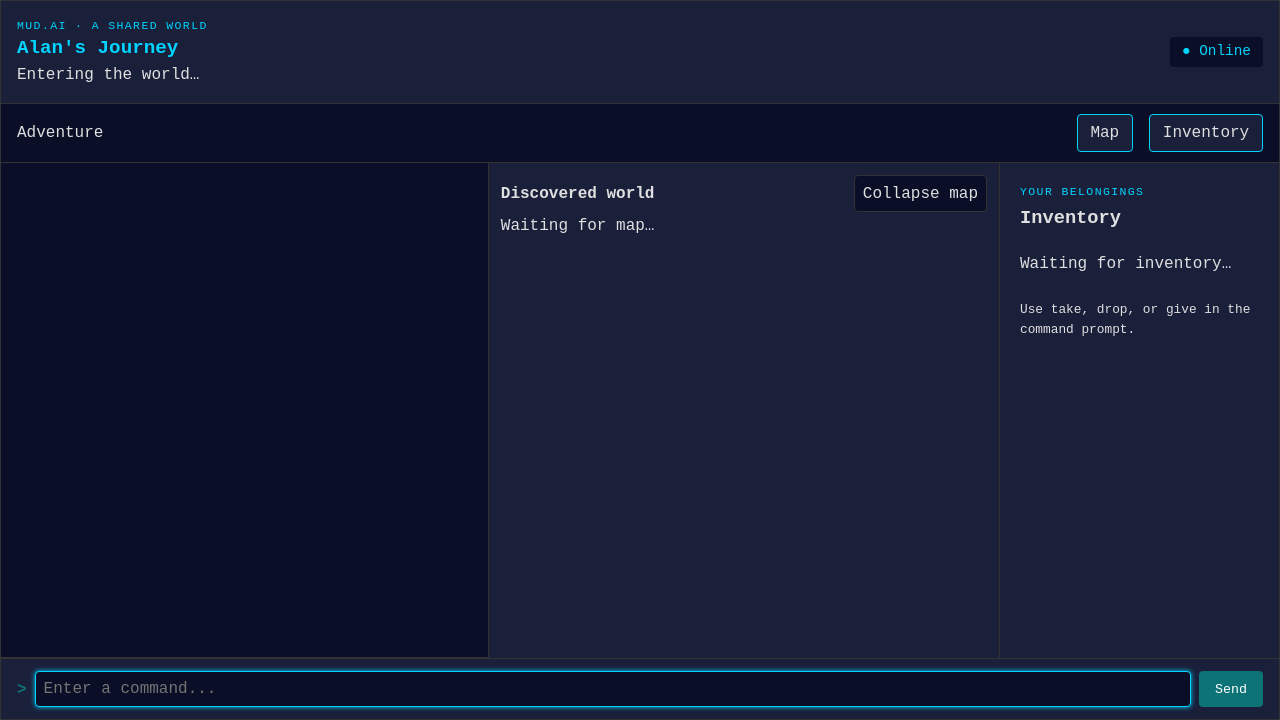
Scenario: Terminal › applies theme slash commands locally without sending them to the server
Type "/theme light" into the field with test id "command-input" at (613, 689), box [35,671,1191,707]
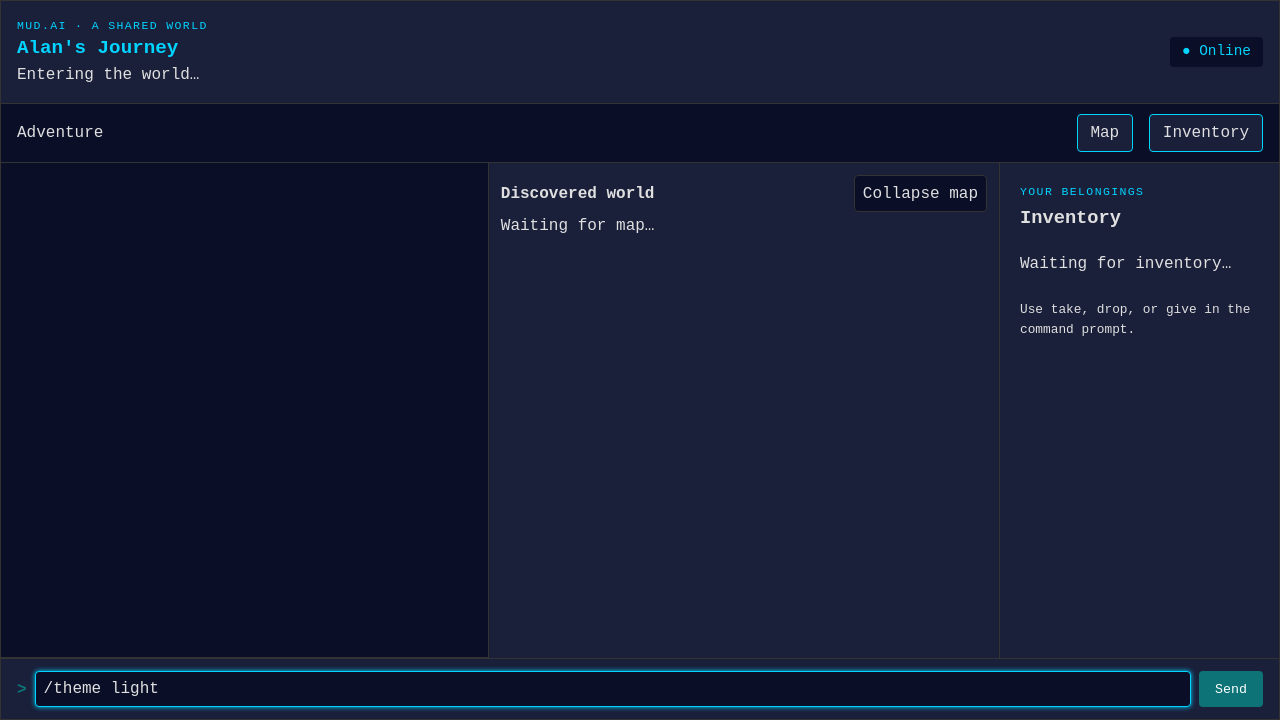
Submit the form with test id "command-input", box [1,658,1279,719]
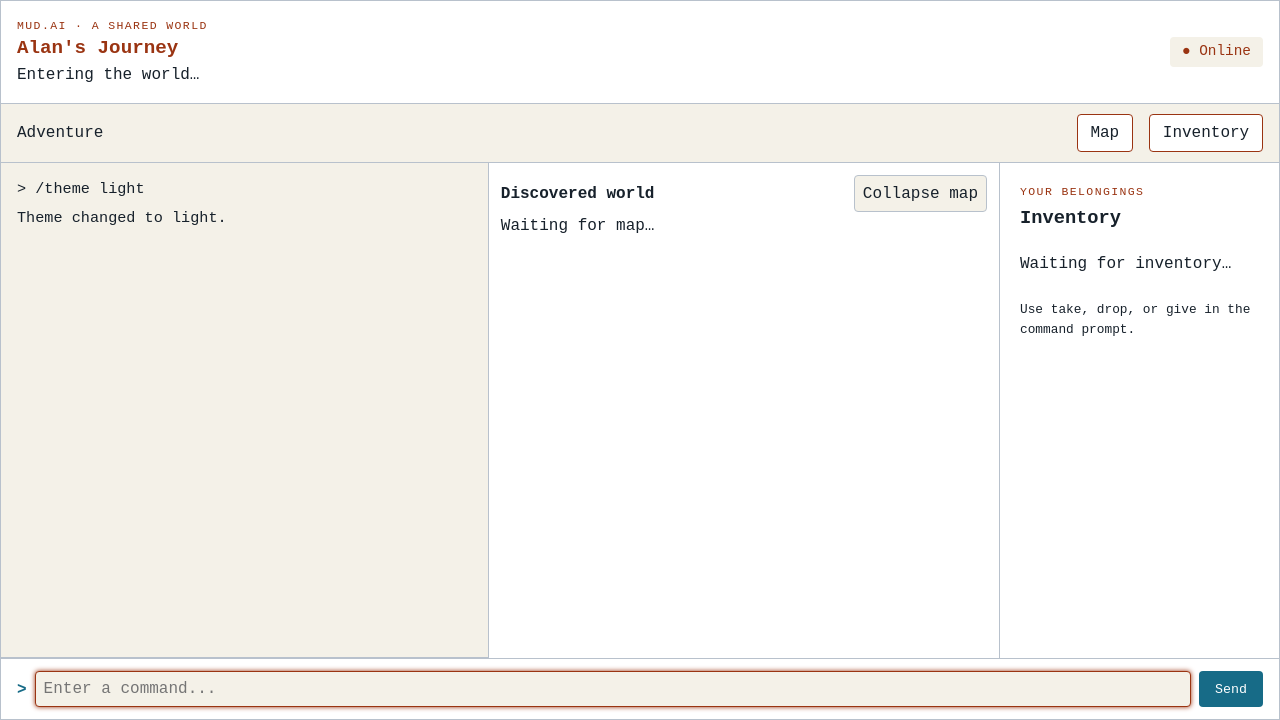
expect the text "Theme changed to light." is shown: met, box [17,209,227,227]
